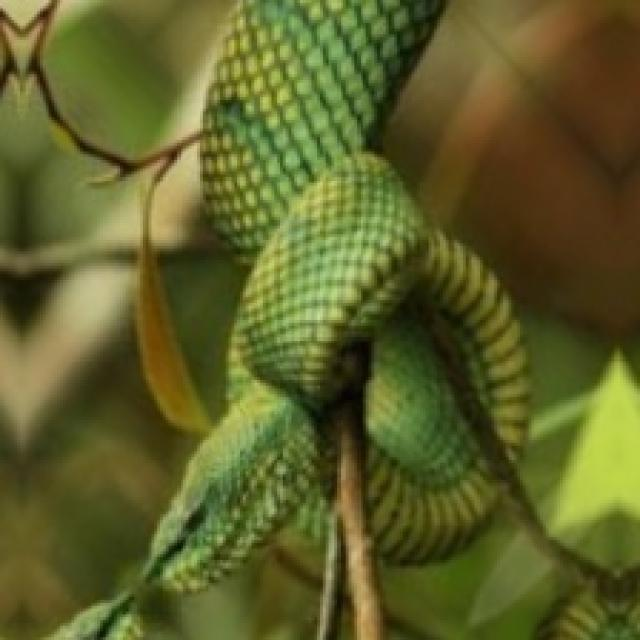north ph temple pitviper: (63, 0, 637, 637), (146, 0, 526, 589), (366, 334, 497, 557)
